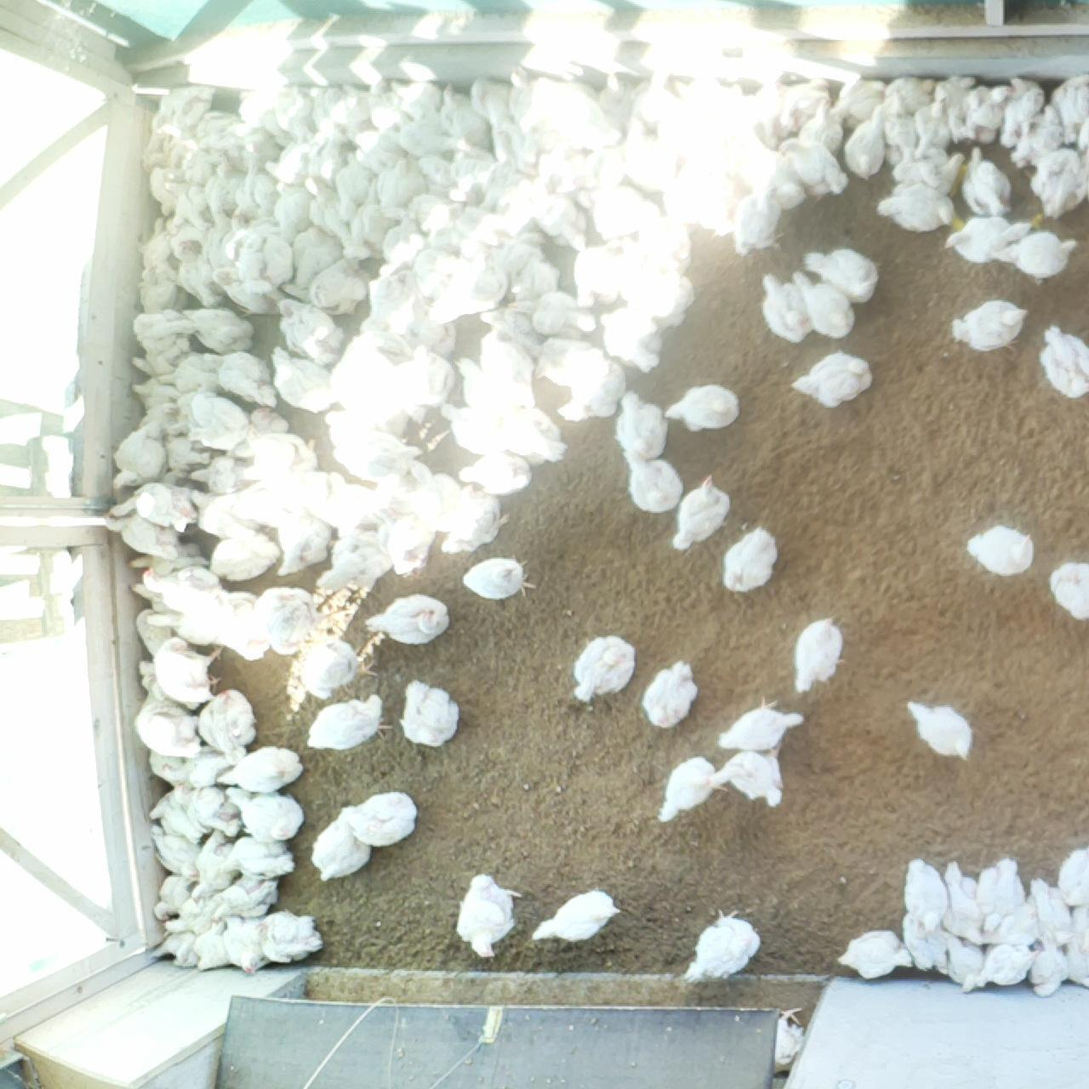chicken: (252, 583, 348, 658), (684, 907, 766, 985), (538, 76, 620, 151), (455, 873, 524, 960), (152, 636, 232, 706), (438, 481, 510, 557), (304, 690, 392, 752), (529, 887, 623, 944), (704, 744, 785, 809), (128, 691, 205, 759), (496, 400, 570, 470), (719, 696, 807, 754), (363, 593, 451, 650), (299, 635, 376, 700), (991, 229, 1080, 285), (555, 357, 628, 425), (790, 611, 847, 697), (657, 755, 728, 824), (312, 535, 391, 597), (570, 633, 637, 706), (311, 805, 372, 885), (106, 479, 198, 532), (214, 744, 304, 798), (197, 687, 260, 764), (221, 784, 306, 841), (224, 227, 295, 295), (668, 475, 730, 552), (274, 296, 340, 368), (450, 356, 534, 412), (332, 429, 426, 479), (475, 295, 548, 359), (282, 221, 341, 300), (792, 352, 876, 407), (792, 268, 856, 340), (950, 297, 1030, 354), (938, 858, 987, 951), (508, 291, 598, 341), (906, 699, 976, 763), (270, 343, 333, 414), (639, 659, 701, 731), (110, 421, 171, 494), (202, 350, 277, 409), (598, 306, 665, 372), (802, 248, 879, 305), (775, 138, 849, 197), (161, 738, 240, 793), (210, 590, 271, 661), (345, 790, 418, 849), (975, 855, 1029, 934), (1030, 145, 1089, 217), (741, 144, 807, 208), (621, 118, 678, 192), (343, 180, 393, 264), (838, 927, 914, 982), (730, 182, 785, 258), (437, 402, 513, 457), (758, 271, 815, 344), (532, 334, 605, 391), (168, 781, 241, 838), (398, 679, 460, 746), (874, 186, 960, 234), (274, 500, 328, 576), (943, 218, 1032, 264), (406, 458, 462, 531), (208, 869, 282, 924), (252, 908, 326, 963), (622, 446, 682, 513), (611, 391, 671, 458), (623, 271, 696, 326), (138, 566, 223, 613), (997, 73, 1048, 151), (723, 526, 779, 597), (187, 390, 251, 452), (575, 238, 632, 307), (528, 188, 588, 253), (186, 827, 238, 902), (321, 471, 380, 537), (901, 857, 950, 936), (958, 145, 1011, 218), (843, 102, 893, 179), (589, 184, 656, 241), (1036, 326, 1089, 398), (460, 551, 536, 601), (180, 304, 256, 354), (472, 329, 534, 390), (966, 523, 1035, 577), (142, 785, 205, 844), (401, 291, 458, 356), (242, 432, 319, 480), (1011, 103, 1066, 170), (380, 510, 435, 577), (361, 268, 413, 338), (211, 265, 281, 317), (151, 81, 219, 134), (690, 160, 738, 235), (210, 531, 280, 582), (936, 926, 986, 997), (311, 255, 371, 314), (456, 245, 506, 315), (332, 330, 385, 396), (187, 487, 253, 540), (664, 385, 740, 431), (143, 603, 222, 647), (218, 912, 271, 977), (778, 75, 834, 136), (978, 895, 1041, 949), (455, 452, 534, 495), (103, 514, 180, 558), (320, 406, 400, 448), (890, 150, 967, 193), (959, 81, 1013, 142), (901, 910, 953, 973), (794, 98, 846, 161), (829, 77, 888, 132), (232, 404, 292, 458), (435, 85, 488, 146), (976, 944, 1043, 992), (1048, 71, 1089, 149), (230, 152, 277, 220), (220, 833, 294, 876), (750, 76, 794, 148), (909, 96, 956, 163), (1026, 929, 1071, 998), (931, 75, 978, 141), (629, 66, 676, 132), (576, 137, 634, 190), (376, 157, 424, 221), (487, 228, 546, 280), (499, 174, 551, 233), (406, 343, 453, 408), (639, 215, 693, 271), (378, 214, 426, 277), (216, 480, 280, 527), (383, 355, 427, 423), (149, 822, 199, 881), (659, 157, 704, 222), (173, 248, 219, 311), (278, 463, 333, 515), (131, 305, 187, 356), (191, 448, 253, 494), (302, 177, 346, 241), (153, 349, 218, 392), (530, 147, 588, 195), (489, 118, 536, 177), (714, 83, 760, 143), (132, 255, 185, 307), (1029, 878, 1070, 945), (477, 150, 521, 212), (391, 110, 449, 157), (270, 82, 319, 137), (368, 471, 417, 525), (128, 334, 191, 376), (140, 736, 188, 791), (302, 125, 347, 183), (505, 69, 547, 131), (163, 893, 222, 937), (334, 150, 370, 222), (131, 581, 191, 624), (1047, 560, 1089, 621), (501, 259, 565, 299), (687, 72, 731, 130), (262, 135, 311, 187), (202, 205, 240, 272), (594, 70, 634, 133), (884, 92, 921, 160), (207, 158, 245, 224), (448, 136, 492, 193), (878, 74, 936, 117), (346, 126, 399, 173), (131, 604, 173, 663), (127, 543, 204, 575), (152, 432, 210, 474), (770, 1006, 810, 1066), (145, 165, 188, 220), (413, 245, 461, 294), (225, 137, 285, 176), (451, 201, 502, 246), (391, 81, 443, 125), (168, 386, 211, 439), (324, 85, 372, 131), (149, 929, 202, 970), (132, 656, 179, 702), (140, 212, 176, 272), (367, 80, 408, 132), (161, 214, 204, 263), (163, 178, 204, 229), (128, 373, 183, 411), (197, 917, 233, 975), (469, 77, 514, 123), (135, 402, 180, 448), (410, 188, 453, 236), (192, 107, 238, 151), (417, 154, 461, 198), (1057, 847, 1089, 906), (156, 872, 193, 923), (160, 121, 198, 170), (221, 120, 277, 153), (236, 86, 277, 130), (429, 283, 469, 327), (181, 143, 220, 188), (140, 125, 171, 175), (1059, 939, 1089, 989), (1066, 902, 1089, 956)
